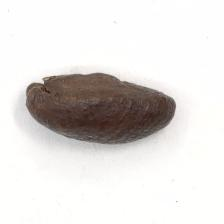NG: (25, 71, 174, 141)
